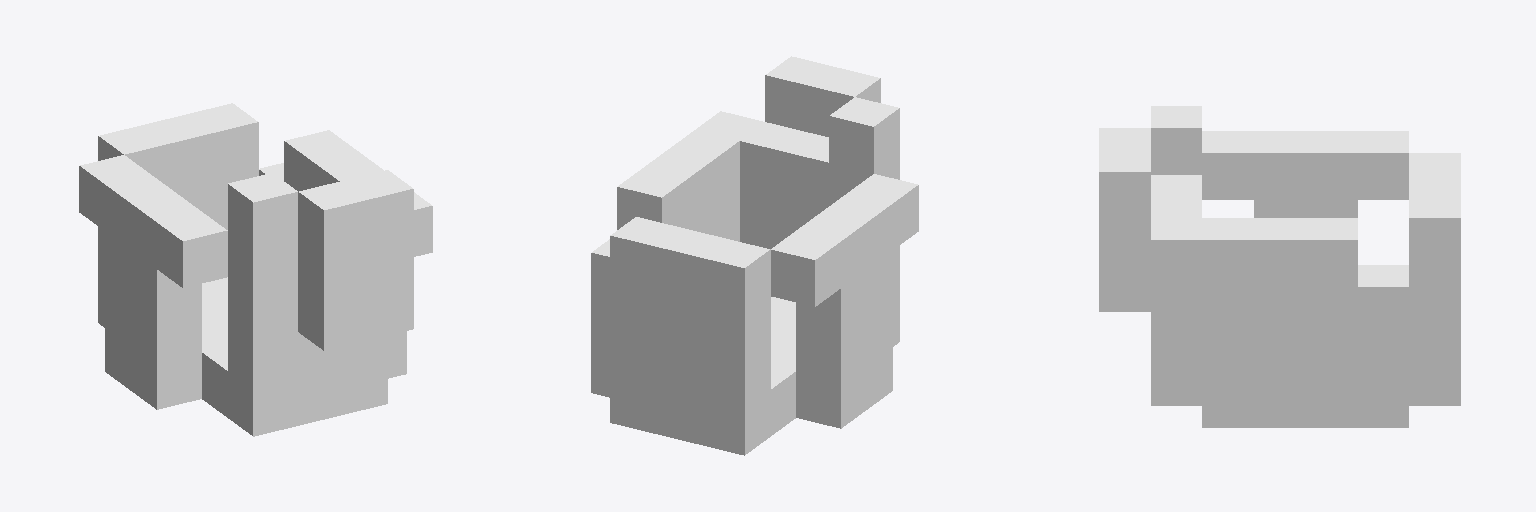
Rendered from DaedraArmorBootsRight.obj.
The picture shows the model from 3 angles: view 1: azimuth 30°, elevation 25°; view 2: azimuth 150°, elevation 25°; view 3: azimuth 270°, elevation 25°; orthographic projection.
Visible parts, largest first — view 1: object 1; view 2: object 1; view 3: object 1.
Part boxes in pixels (x1,y1,x2,y2): object 1: (79,103,432,436); object 1: (591,56,918,455); object 1: (1099,106,1460,427).
Size of the model in its own units: 0.5 by 0.5 by 0.7.